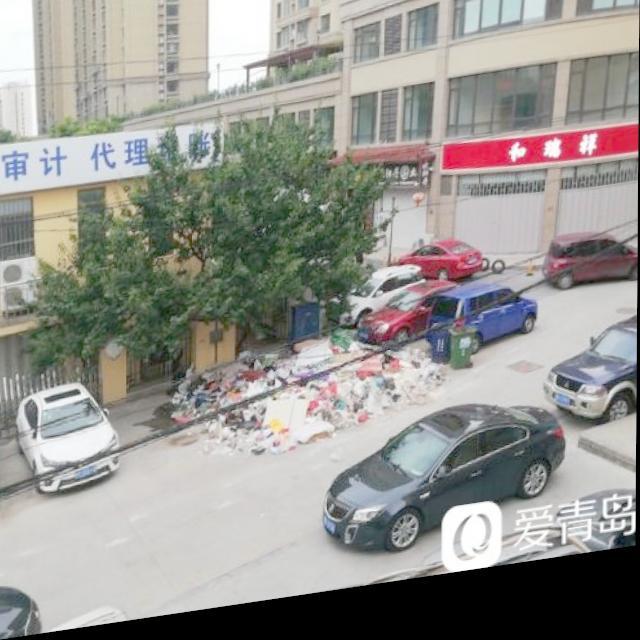garbage: (169, 329, 445, 474)
garbage_bin: (448, 336, 475, 384), (428, 331, 449, 378)
